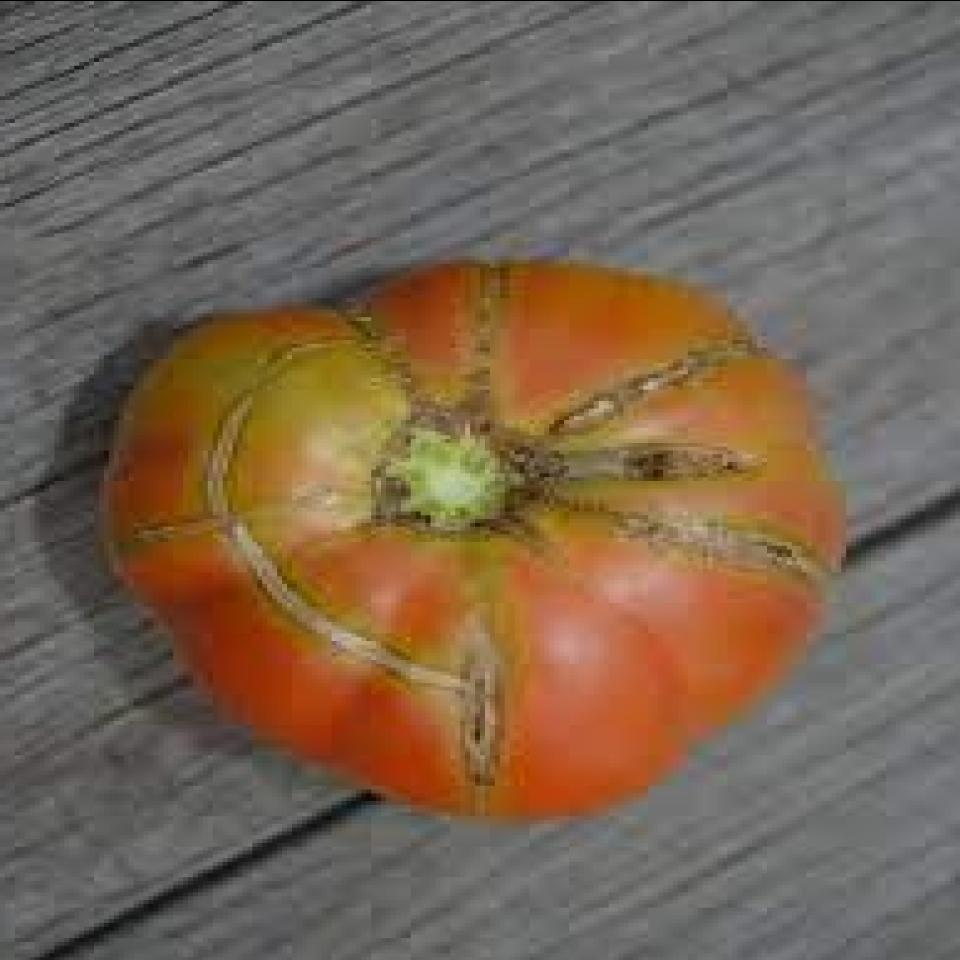Cracking: (160, 309, 522, 806), (473, 310, 857, 640)
